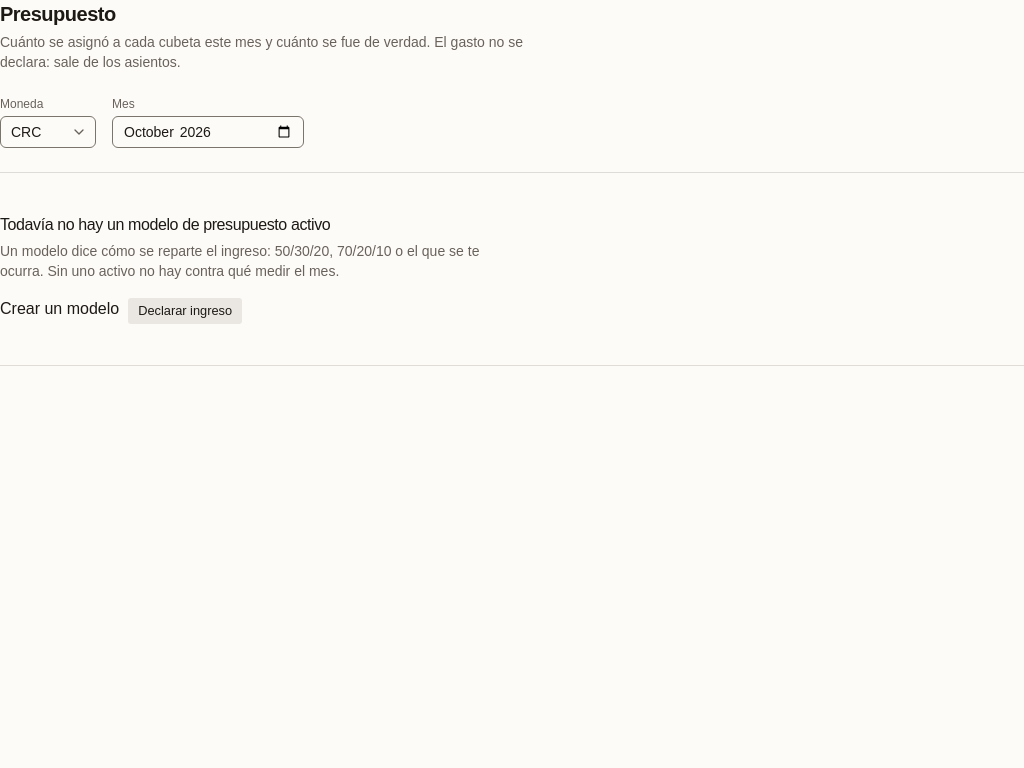
presupuesto sin modelo activo › sigue mostrando el estado sin modelo después de declarar el ingreso
Click the button "Declarar ingreso" at (185, 311), box [127, 297, 243, 325]
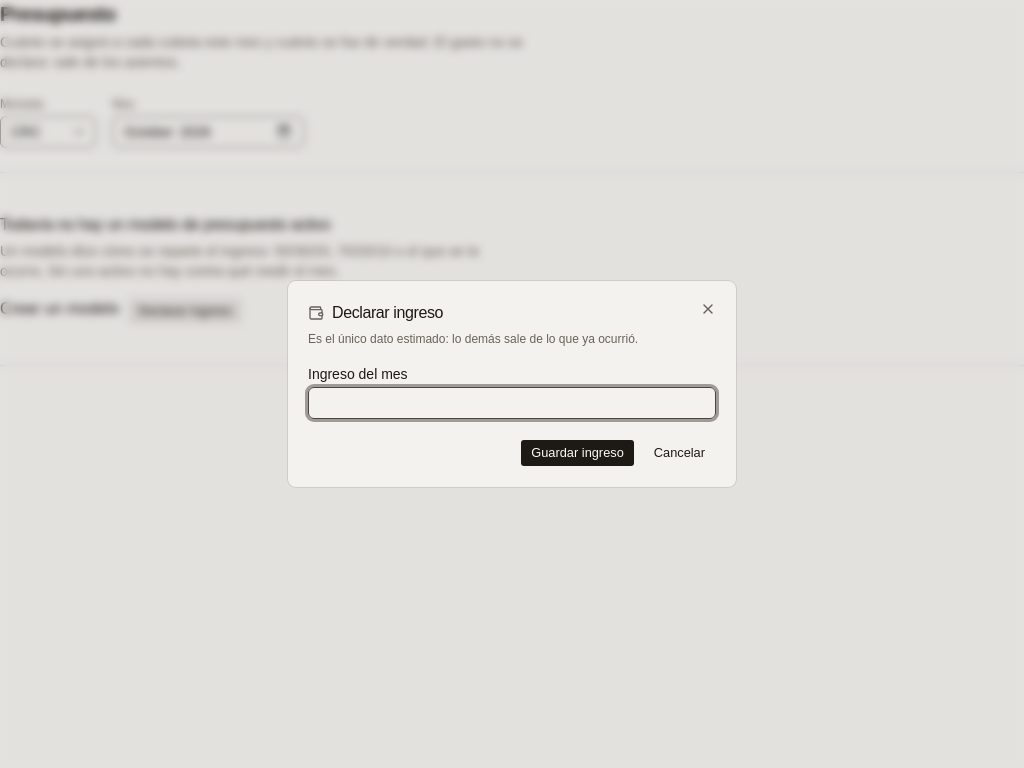
Type "100000" into the field labelled "Ingreso del mes" at (512, 403), box [308, 387, 716, 419]
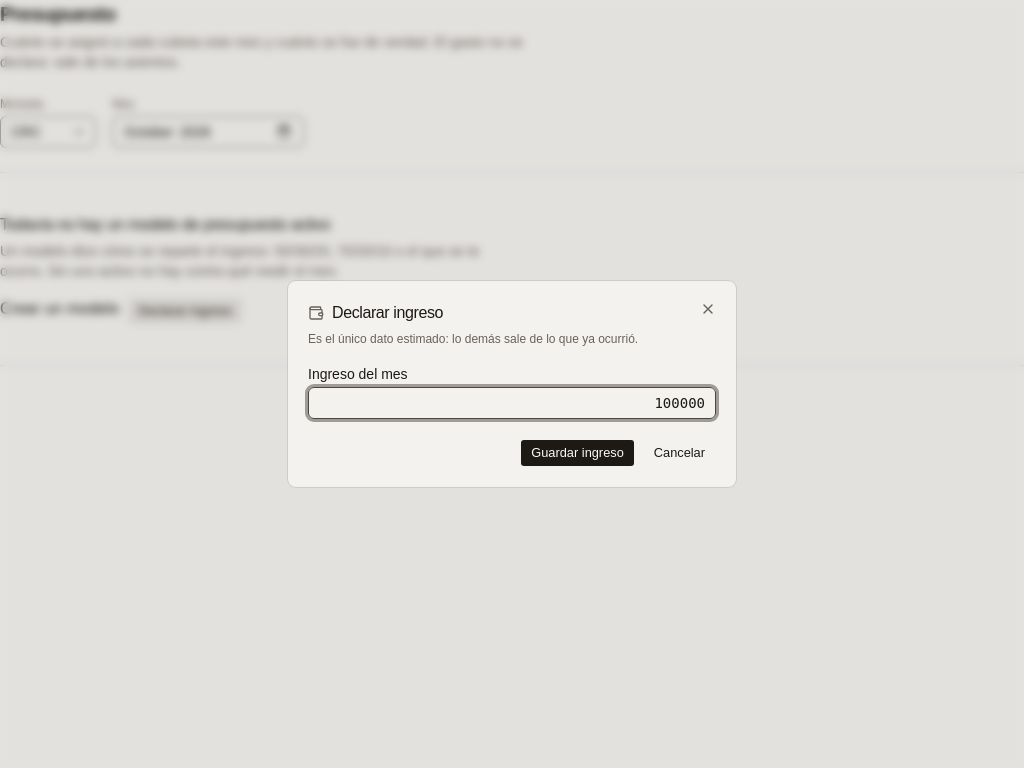
Click the button "Guardar ingreso" at (578, 453), box [520, 439, 635, 467]
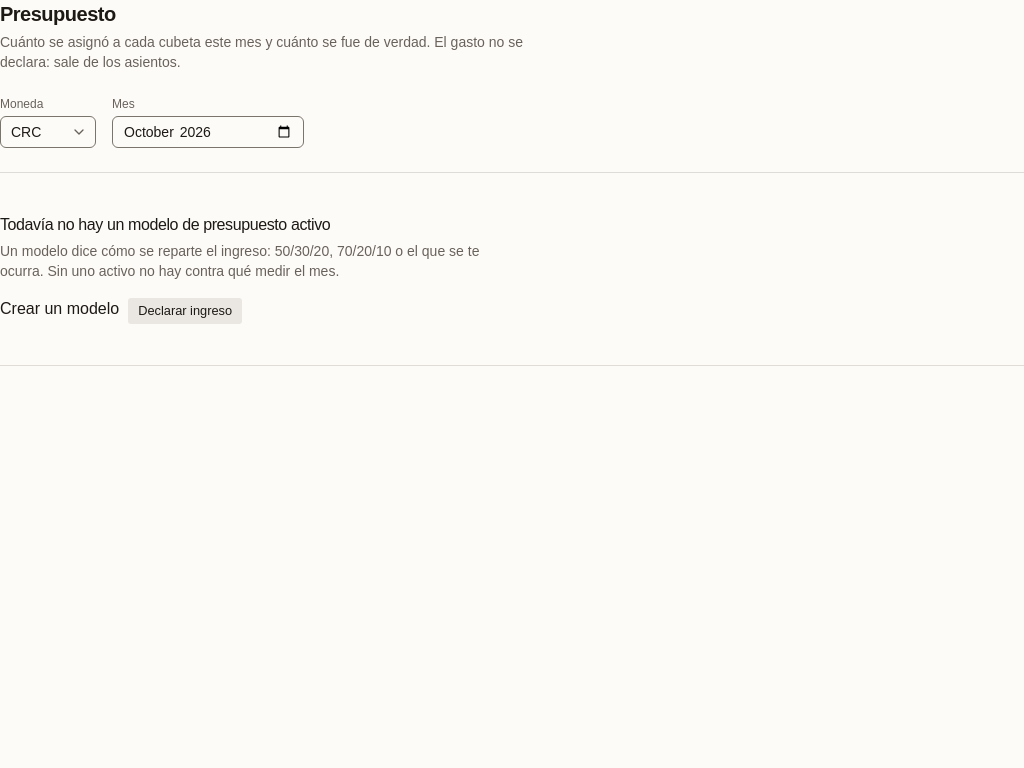
Expected: the heading "Todavía no hay un modelo de presupuesto activo" is shown, [0, 216, 330, 233]
Now the label labelled "Ingreso del mes" is gone
